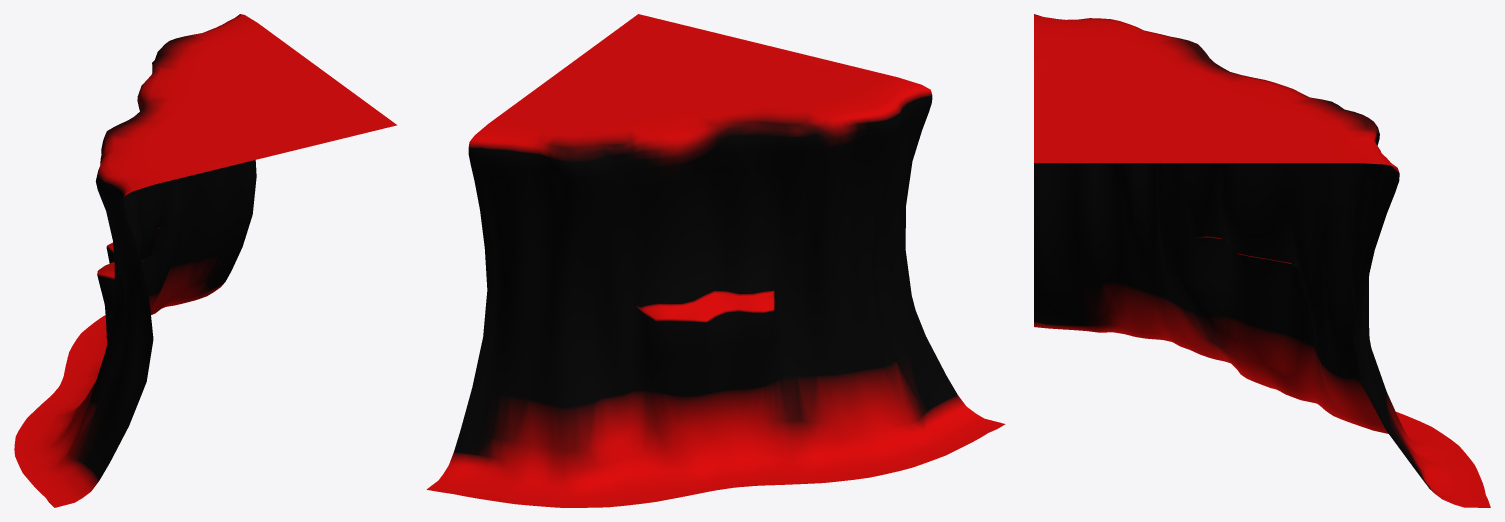
Rendered from GroundCliff03B 2M Foreground.fbx.
3 renders of one model, left to right at view 1: azimuth 30°, elevation 25°; view 2: azimuth 150°, elevation 25°; view 3: azimuth 270°, elevation 25°, orthographic. The views are drawn at different scales.
Parts seen in each view (by area): view 1: GroundCliff03B 2M Foreground; view 2: GroundCliff03B 2M Foreground; view 3: GroundCliff03B 2M Foreground.
Part boxes in pixels (x1,y1,x2,y2): GroundCliff03B 2M Foreground: (14, 14, 396, 507); GroundCliff03B 2M Foreground: (426, 14, 1005, 507); GroundCliff03B 2M Foreground: (1034, 14, 1490, 507).
Size of the model in its own units: 2.4 by 2 by 2.4.
